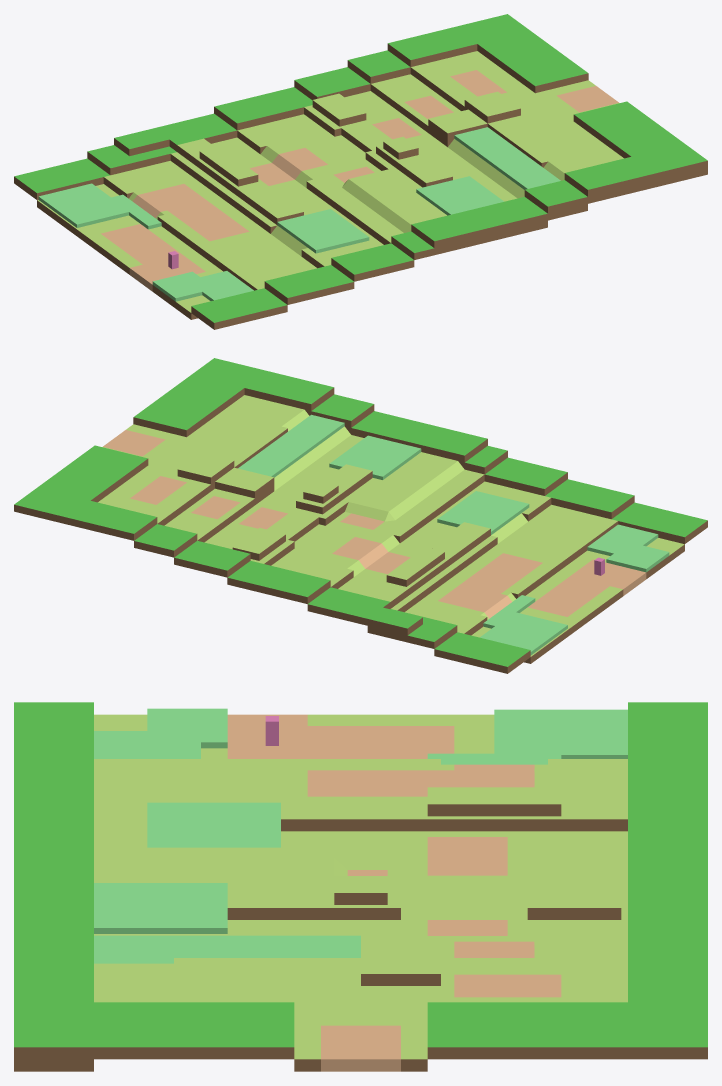
File: Rota1.fbx
3 views of the same model, one above another, from view 1: azimuth 30°, elevation 25°; view 2: azimuth 150°, elevation 25°; view 3: azimuth 270°, elevation 25° (orthographic). The views are drawn at different scales.
Visible parts, largest first — view 1: Chão, Borda, Mato, Estradas; view 2: Chão, Borda, Mato, Estradas; view 3: Chão, Borda, Mato, Estradas.
Boxes of the visible parts, <box> form: Chão: <box>37,51,623,319</box>; Borda: <box>14,14,707,329</box>; Mato: <box>38,127,560,301</box>; Estradas: <box>101,70,618,291</box>; Chão: <box>98,395,684,663</box>; Borda: <box>14,358,707,673</box>; Mato: <box>238,414,669,655</box>; Estradas: <box>103,430,646,618</box>; Chão: <box>94,714,627,1071</box>; Borda: <box>14,702,707,1071</box>; Mato: <box>94,708,627,963</box>; Estradas: <box>227,714,561,1071</box>.
Size of the model in its own units: 14800 by 1600 by 10400.
